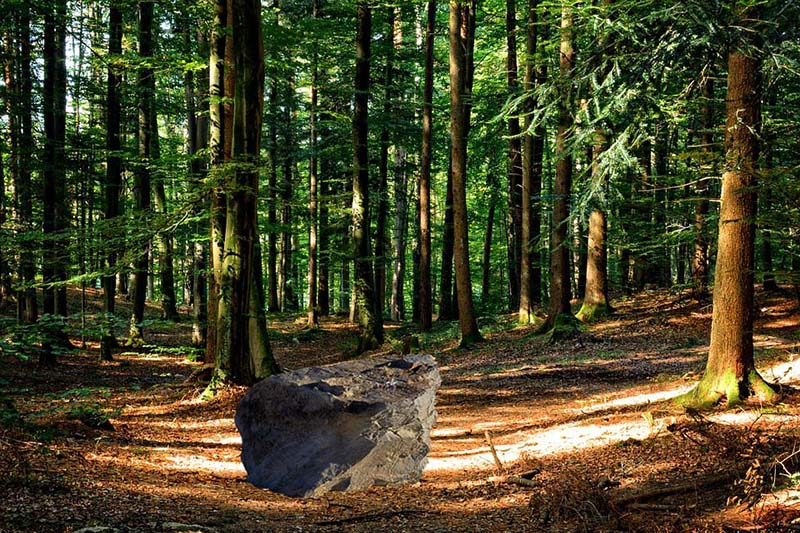Rocks: (231, 346, 447, 499)
